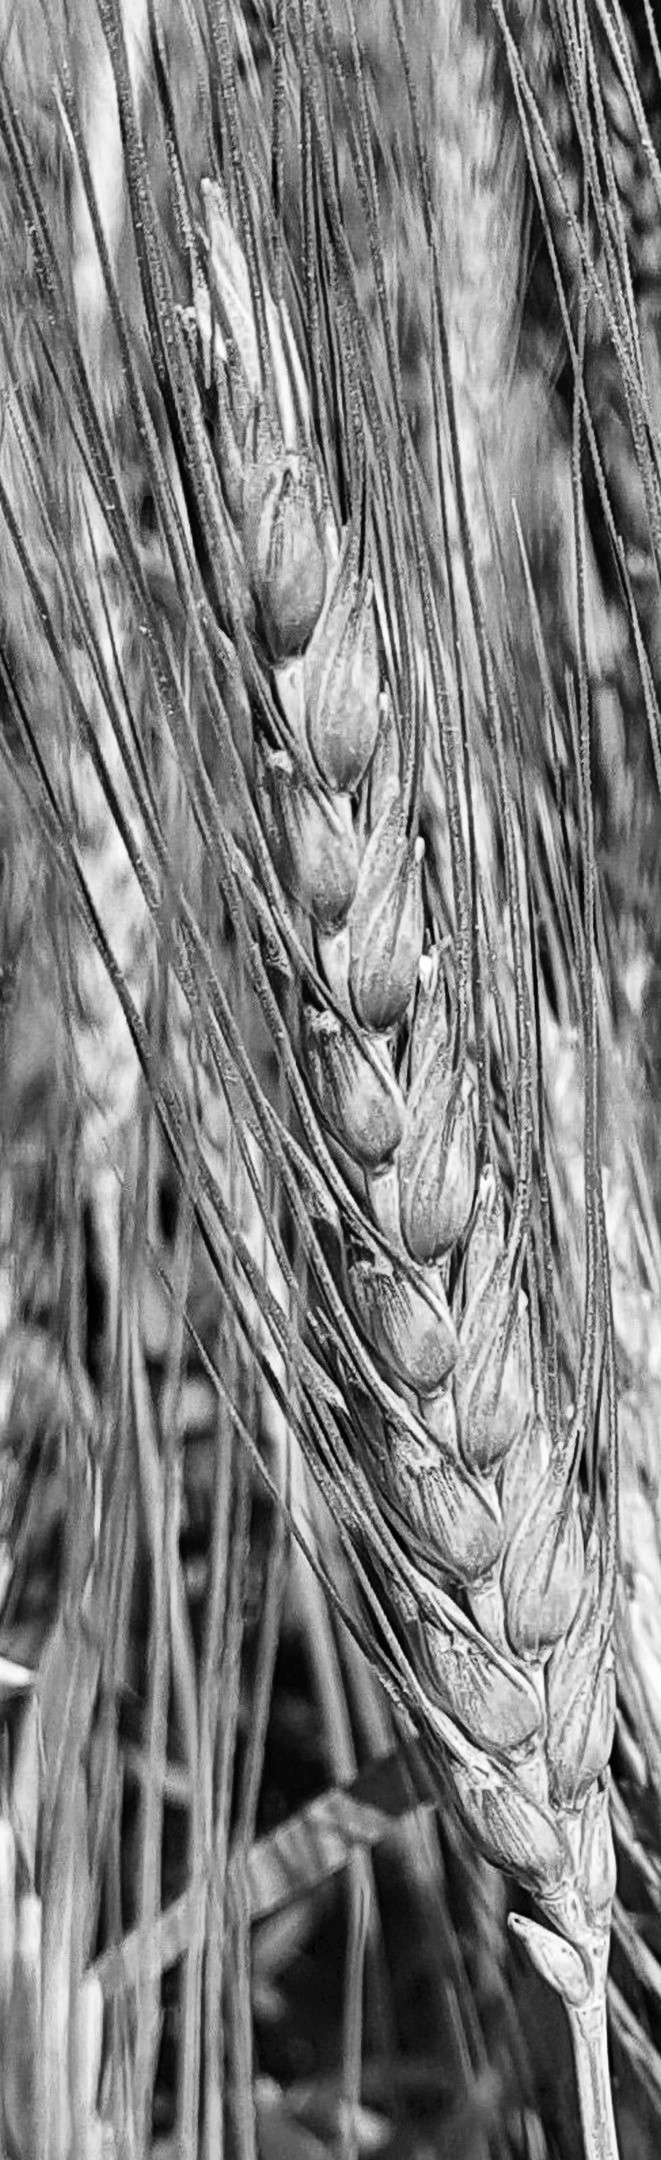Healthy Wheat: (123, 229, 661, 1891)
